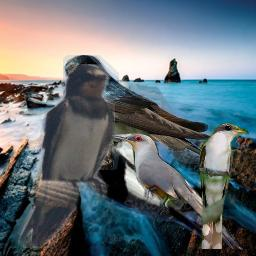Cuckoo: (106, 132, 243, 253), (198, 122, 249, 249)
Swallow: (63, 55, 221, 170), (18, 64, 115, 248)
Woodpecker: (22, 77, 246, 245)
